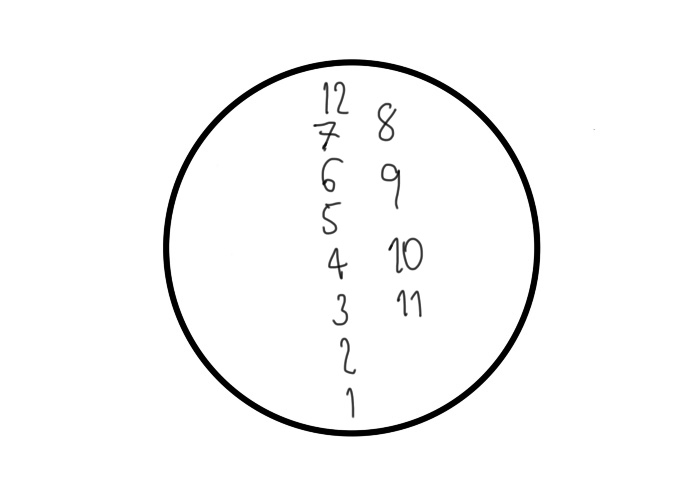eight: (371, 100, 396, 144)
eleven: (395, 286, 424, 321)
five: (321, 199, 343, 236)
four: (326, 245, 349, 283)
nine: (378, 159, 403, 210)
one: (341, 383, 357, 419)
seven: (312, 118, 339, 153)
six: (320, 155, 344, 196)
ten: (386, 235, 426, 276)
three: (329, 292, 351, 326)
twelve: (321, 77, 348, 115)
two: (336, 336, 358, 375)
